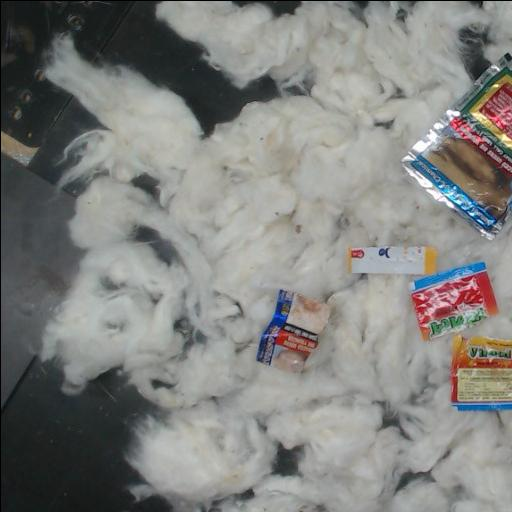conveyor belt: (1, 1, 277, 512), (462, 34, 489, 78), (137, 228, 172, 259), (274, 448, 297, 474), (134, 176, 156, 196), (266, 1, 296, 14)
cotton: (40, 1, 512, 512)
packet: (402, 53, 512, 238), (349, 245, 497, 340), (257, 289, 329, 369), (451, 337, 512, 410)
